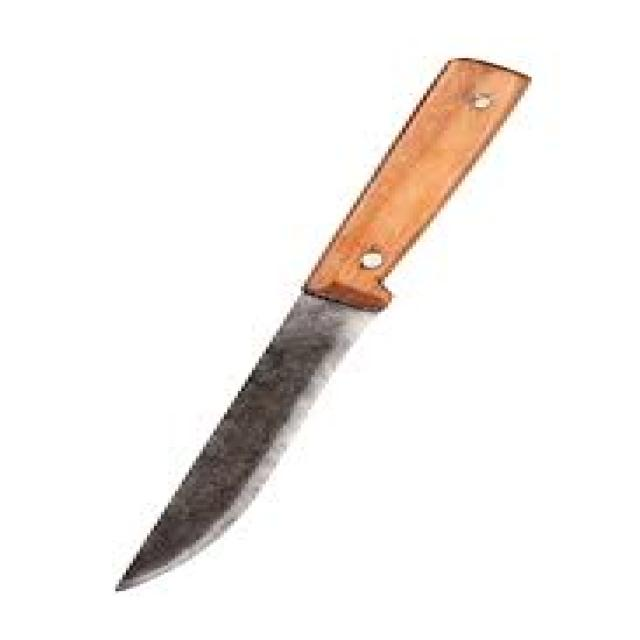Knife: (112, 56, 531, 591)
